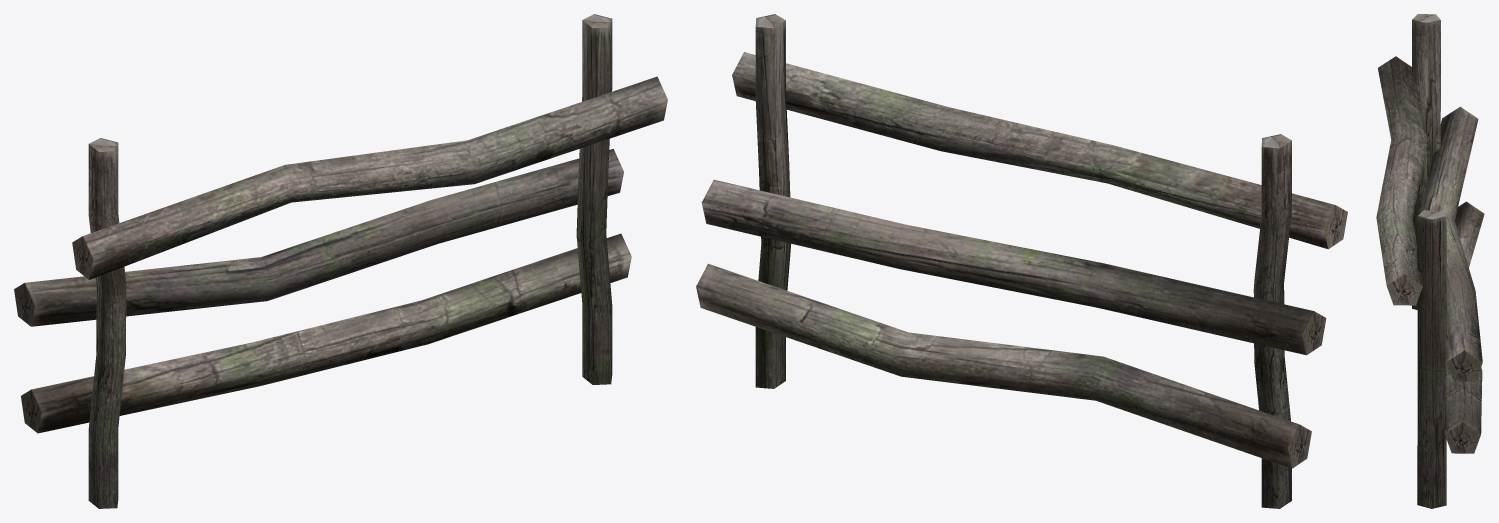
File: Pen.fbx
3 renders of one model, left to right at view 1: azimuth 30°, elevation 25°; view 2: azimuth 150°, elevation 25°; view 3: azimuth 270°, elevation 25°, orthographic. The views are drawn at different scales.
Parts seen in each view (by area): view 1: Pen; view 2: Pen; view 3: Pen.
Boxes of the visible parts, <box> form: Pen: <box>14,14,667,508</box>; Pen: <box>696,14,1347,508</box>; Pen: <box>1376,14,1484,508</box>.
Size of the model in its own units: 220 by 125 by 42.43.
